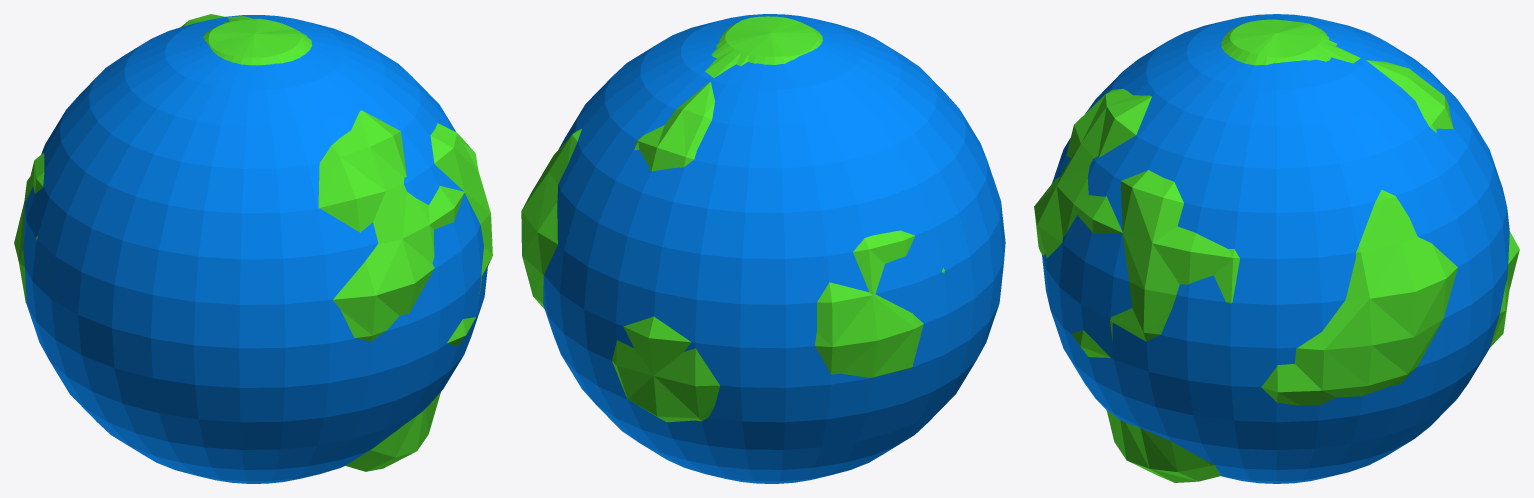
File: waterplanet.glb
3 views of the same model, side by side, from view 1: azimuth 30°, elevation 25°; view 2: azimuth 150°, elevation 25°; view 3: azimuth 270°, elevation 25° (orthographic).
Visible parts, largest first — view 1: Sphere; view 2: Sphere; view 3: Sphere.
Part boxes in pixels (x1,y1,x2,y2): Sphere: (14,14,492,483); Sphere: (521,14,1005,483); Sphere: (1034,14,1519,483).
Size of the model in its own units: 2.01 by 2.01 by 2.07.
